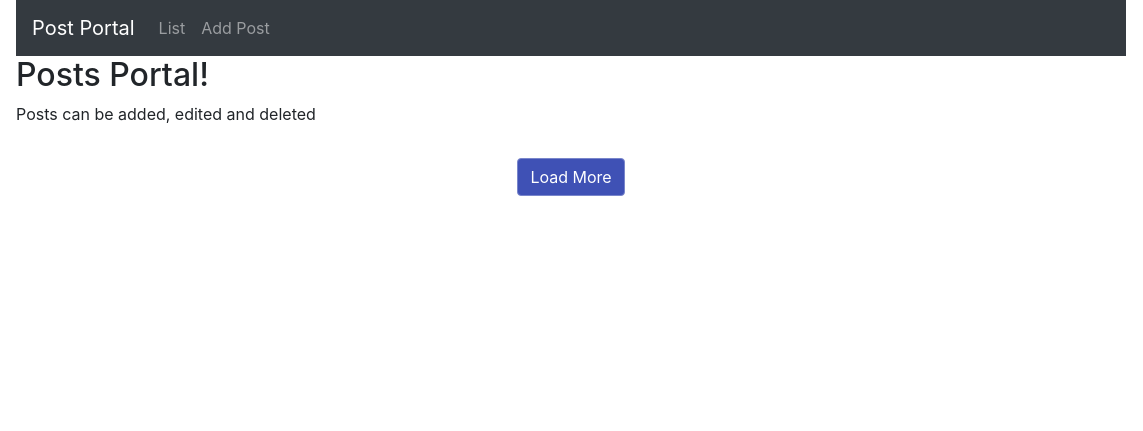
Test: Blog container loaded › redirect to home page on click of add post link
What coordinates should you click on to do the following:
click the link "Add Post"
I would click on:
 (235, 28)
Its box is [201,18,270,38].
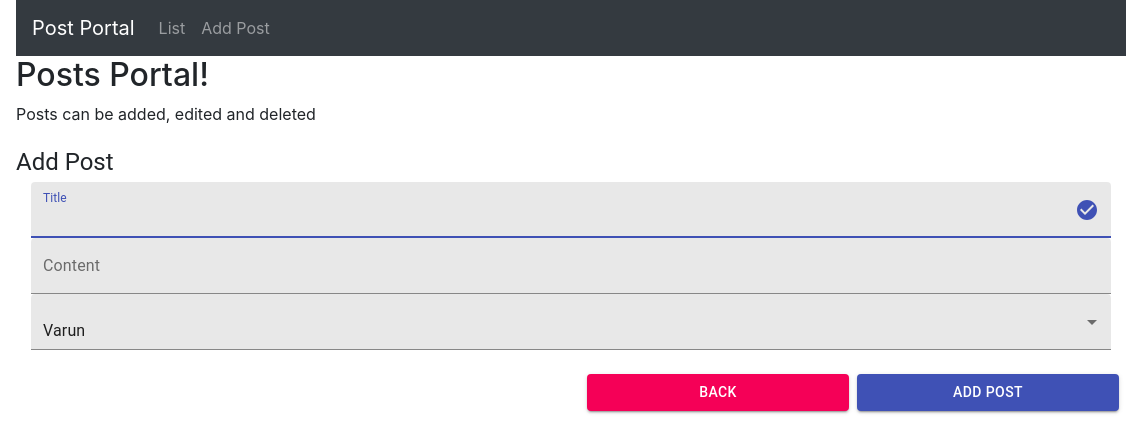
Check: the text "Back" is shown, box [699,384,737,400]
Check: the text "Title" is shown, box [43,192,67,204]
